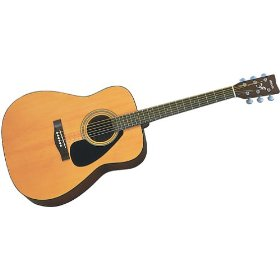guitar: (1, 73, 278, 210)
